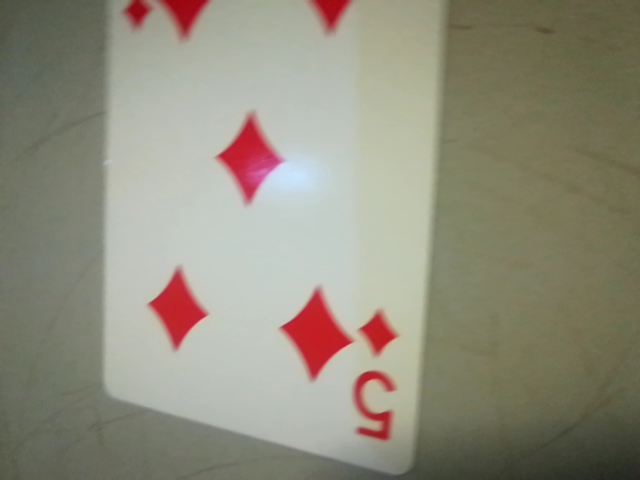fk 5: (341, 296, 415, 456)
